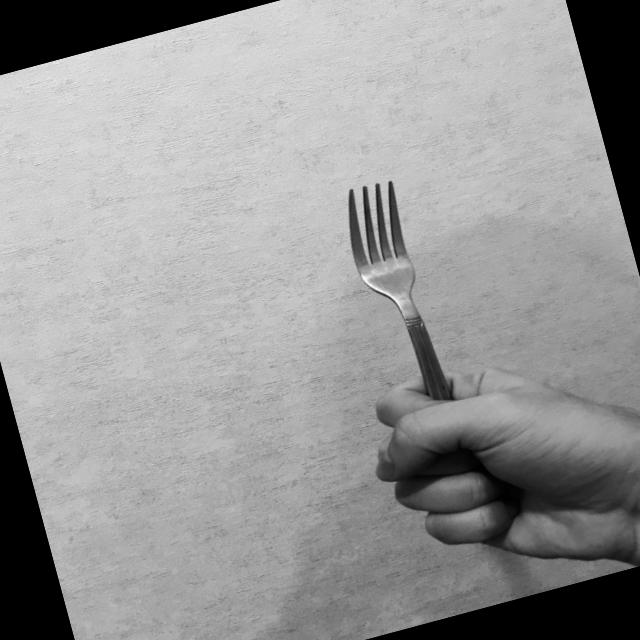fork: (331, 169, 486, 519)
